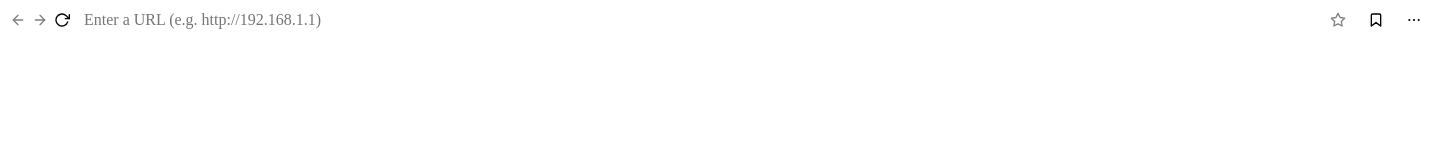
Scenario: WebBrowserPane › toggles the bookmarks dropdown, listing saved bookmarks
This screenshot has width=1437, height=160.
Check: the text "Router GUI" is not shown
Click the button named "Show bookmarks" at (1376, 20), box 1360,6 -> 1392,34
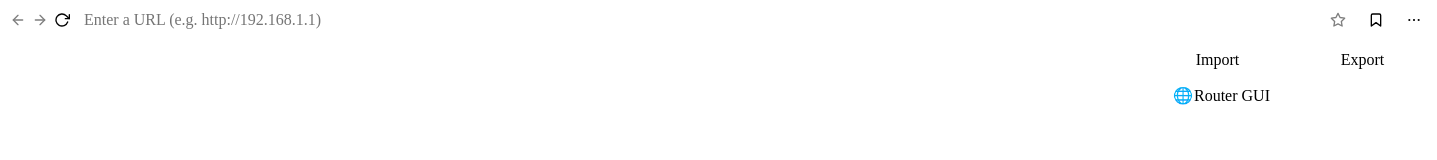
Check: the text "Router GUI" is shown, box 1194,86 -> 1270,104
# Clicking the button again closes it.
Click the button named "Show bookmarks" at (1376, 20), box 1360,6 -> 1392,34
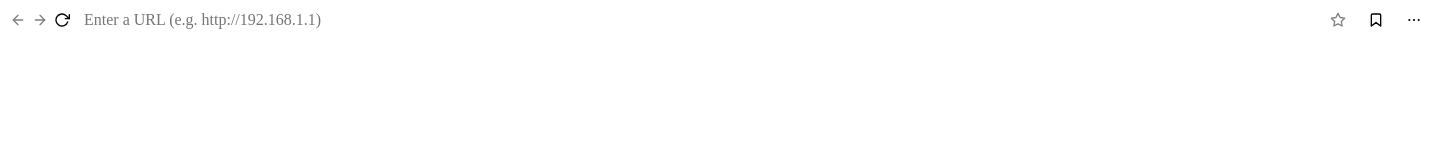
Check: the text "Router GUI" is gone
